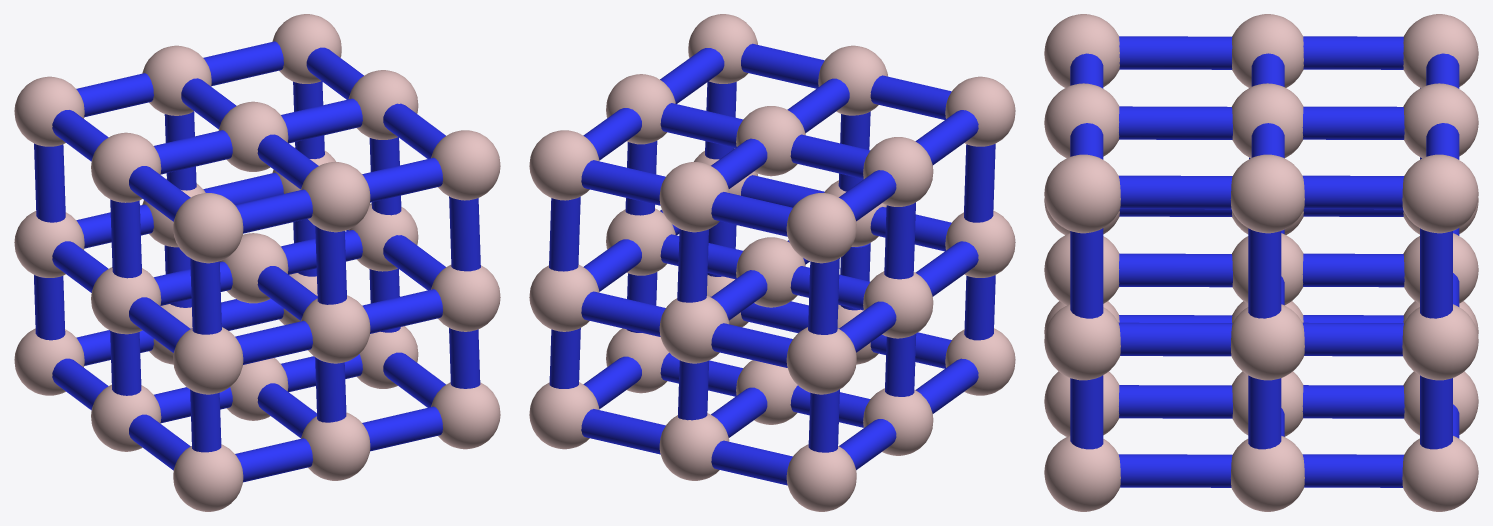
File: tverdye_tela.FBX
3 views of the same model, side by side, from view 1: azimuth 30°, elevation 25°; view 2: azimuth 150°, elevation 25°; view 3: azimuth 270°, elevation 25° (orthographic). The views are drawn at different scales.
Visible parts, largest first — view 1: Sphere024, Sphere015, Sphere003, Sphere025, Sphere029, Sphere009, Sphere020, Sphere005, Sphere016, Sphere022, Sphere023, Sphere027 (+61 smaller); view 2: Sphere022, Sphere013, Sphere001, Sphere027, Sphere028, Sphere018, Sphere008, Sphere019, Sphere012, Sphere024, Sphere023, Sphere014 (+61 smaller); view 3: Sphere029, Sphere028, Sphere030, Sphere009, Sphere012, Sphere020, Sphere019, Sphere011, Sphere021, Cylinder010, Cylinder028, Cylinder016 (+39 smaller).
Part boxes in pixels (x1,y1,x2,y2): Sphere024: [173, 193, 243, 263]; Sphere015: [173, 327, 243, 394]; Sphere003: [173, 444, 243, 511]; Sphere025: [301, 162, 370, 232]; Sphere029: [431, 130, 500, 200]; Sphere009: [431, 382, 500, 449]; Sphere020: [431, 265, 500, 331]; Sphere005: [301, 412, 370, 480]; Sphere016: [301, 295, 370, 363]; Sphere022: [14, 76, 84, 146]; Sphere023: [91, 132, 161, 202]; Sphere027: [142, 45, 211, 115]; Sphere022: [786, 193, 856, 263]; Sphere013: [786, 327, 856, 394]; Sphere001: [786, 444, 856, 511]; Sphere027: [659, 162, 729, 232]; Sphere028: [529, 130, 599, 200]; Sphere018: [659, 295, 729, 363]; Sphere008: [659, 413, 729, 480]; Sphere019: [529, 265, 599, 331]; Sphere012: [529, 382, 599, 449]; Sphere024: [945, 76, 1015, 146]; Sphere023: [863, 137, 933, 206]; Sphere014: [863, 271, 933, 338]; Sphere029: [1044, 154, 1120, 233]; Sphere028: [1402, 154, 1478, 233]; Sphere030: [1230, 154, 1304, 233]; Sphere009: [1044, 436, 1120, 511]; Sphere012: [1402, 436, 1478, 511]; Sphere020: [1044, 304, 1120, 380]; Sphere019: [1402, 304, 1478, 380]; Sphere011: [1230, 436, 1304, 511]; Sphere021: [1230, 304, 1304, 380]; Cylinder010: [1119, 385, 1232, 418]; Cylinder028: [1119, 106, 1232, 139]; Cylinder016: [1119, 253, 1232, 287].
Size of the model in its own units: 46.64 by 43.8 by 49.25.
